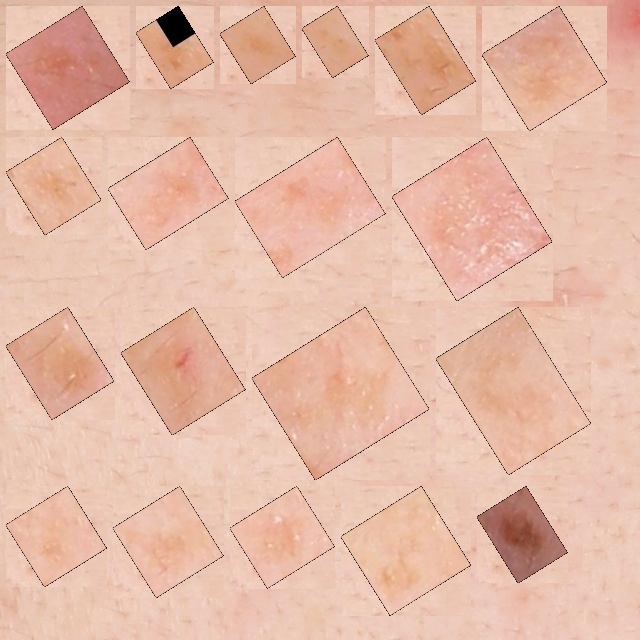melasma: (263, 318, 418, 469), (403, 148, 541, 290), (447, 318, 580, 464), (246, 148, 374, 266), (352, 497, 460, 604), (132, 318, 234, 424), (493, 17, 596, 120), (17, 17, 118, 118), (119, 148, 217, 238), (124, 497, 212, 586), (17, 318, 103, 408), (386, 17, 465, 104), (241, 497, 324, 577), (17, 497, 96, 576), (17, 148, 90, 224), (488, 497, 556, 572), (147, 17, 202, 77), (231, 17, 284, 73), (313, 17, 357, 66)
